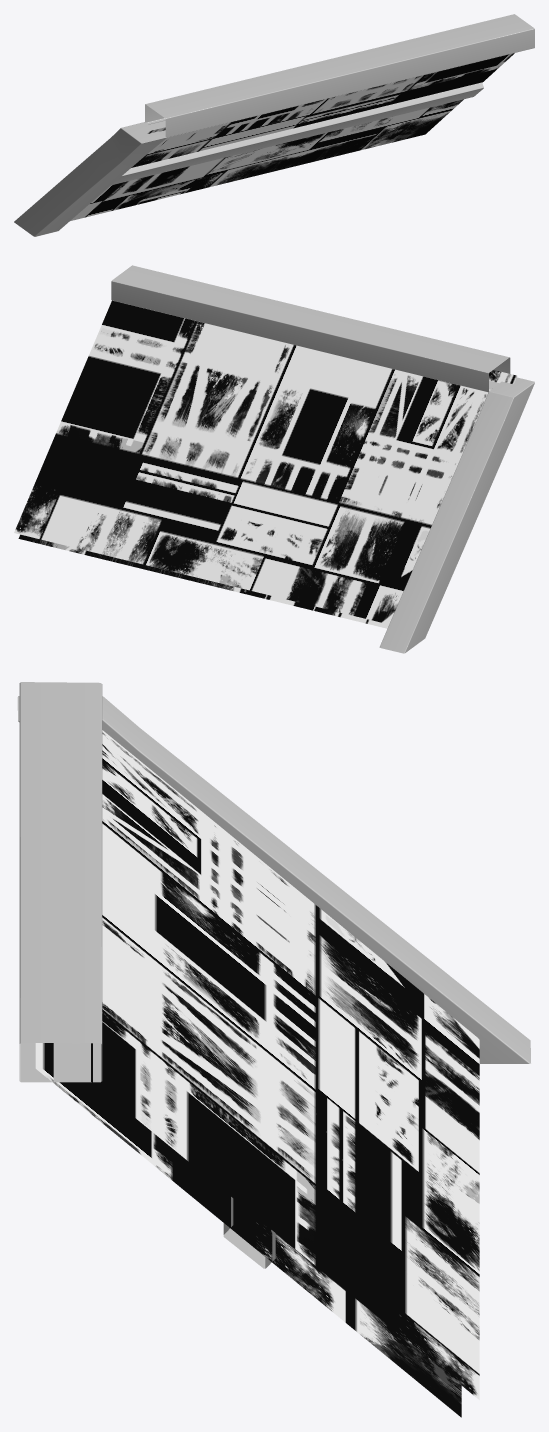
Rendered from SM_wall01_Wall_022.fbx.
3 views of the same model, one above another, from view 1: azimuth 30°, elevation 25°; view 2: azimuth 150°, elevation 25°; view 3: azimuth 270°, elevation 25° (orthographic). The views are drawn at different scales.
Visible parts, largest first — view 1: SM_wall01_Wall_022_LOD0; view 2: SM_wall01_Wall_022_LOD0; view 3: SM_wall01_Wall_022_LOD0.
Part boxes in pixels (bbox=[...]): SM_wall01_Wall_022_LOD0: bbox=[14, 14, 534, 236]; SM_wall01_Wall_022_LOD0: bbox=[14, 265, 534, 653]; SM_wall01_Wall_022_LOD0: bbox=[17, 682, 530, 1417].
Size of the model in its own units: 301 by 169 by 139.
